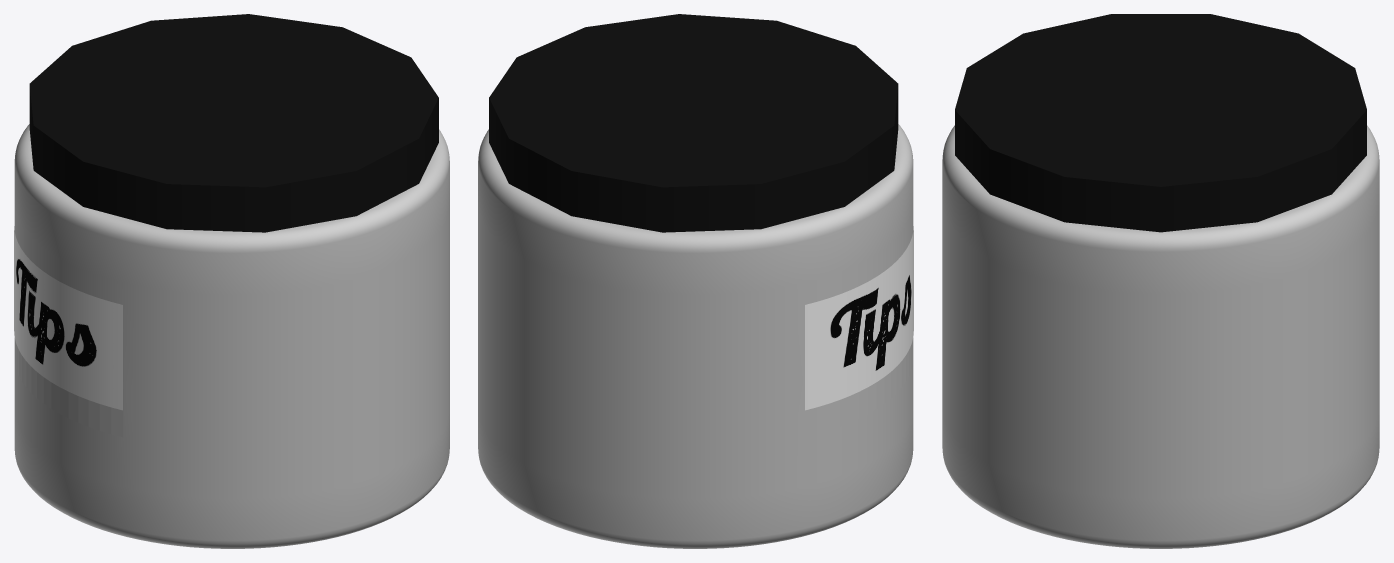
Rendered from Modelo3DTarroTips.FBX.
3 views of the same model, side by side, from view 1: azimuth 30°, elevation 25°; view 2: azimuth 150°, elevation 25°; view 3: azimuth 270°, elevation 25° (orthographic).
Visible parts, largest first — view 1: Line002, Cylinder001, Etiqueta01; view 2: Line002, Cylinder001, Etiqueta01; view 3: Line002, Cylinder001.
Part boxes in pixels (left/top/right/bottom): Line002: left=14, top=124, right=449, bottom=548; Cylinder001: left=29, top=14, right=438, bottom=232; Etiqueta01: left=14, top=226, right=122, bottom=410; Line002: left=478, top=124, right=913, bottom=548; Cylinder001: left=489, top=14, right=898, bottom=232; Etiqueta01: left=805, top=226, right=913, bottom=410; Line002: left=942, top=125, right=1379, bottom=548; Cylinder001: left=955, top=14, right=1366, bottom=232.
Size of the model in its own units: 55.67 by 50.85 by 55.6.
3 materials, 1 textured.
